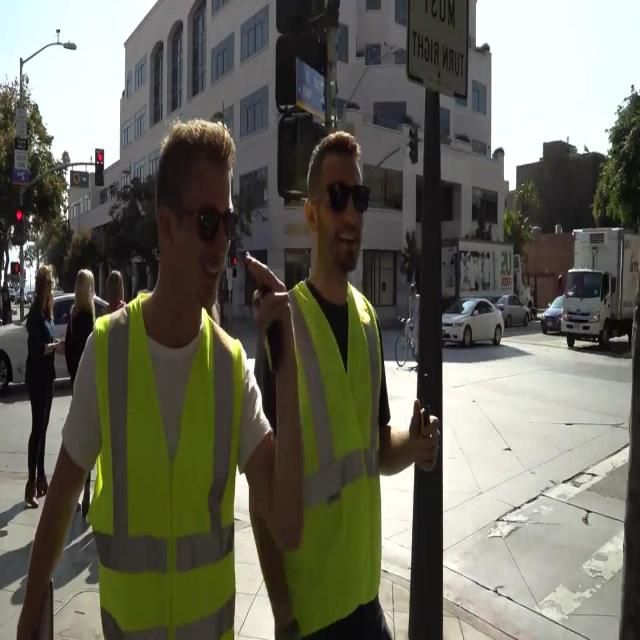Reflective-Jacket: (83, 294, 251, 640), (273, 268, 389, 632)
